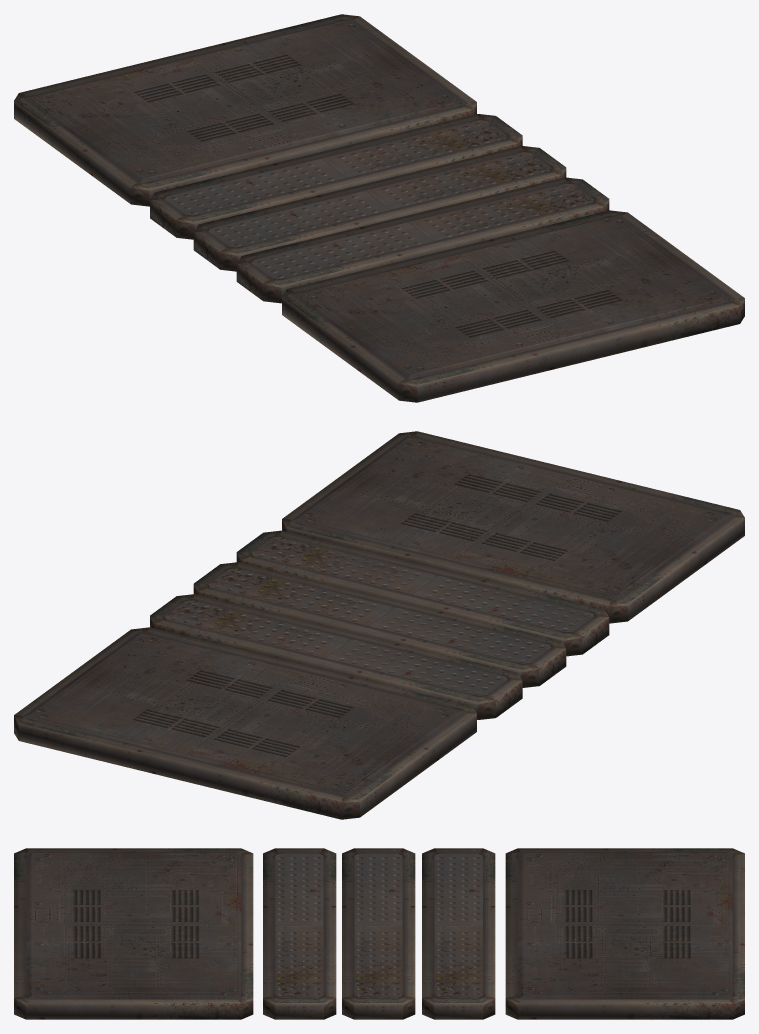
Rendered from Floor_E_2'5qmts_10.fbx.
3 views of the same model, one above another, from view 1: azimuth 30°, elevation 25°; view 2: azimuth 150°, elevation 25°; view 3: azimuth 270°, elevation 25° (orthographic). The views are drawn at different scales.
Parts seen in each view (by area): view 1: Floor_E_2'5qmts_10; view 2: Floor_E_2'5qmts_10; view 3: Floor_E_2'5qmts_10.
Boxes of the visible parts, box(x1,y1,x2,y2) form: Floor_E_2'5qmts_10: box(14, 14, 744, 402); Floor_E_2'5qmts_10: box(14, 431, 744, 819); Floor_E_2'5qmts_10: box(14, 848, 744, 1019).
Size of the model in its own units: 250 by 13.81 by 499.
Materials: 1 (1 with a texture image).
